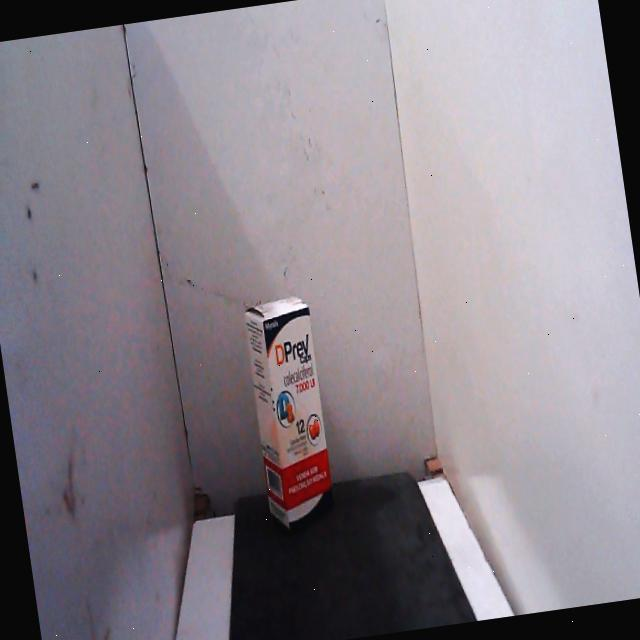papel: (233, 282, 350, 538)
